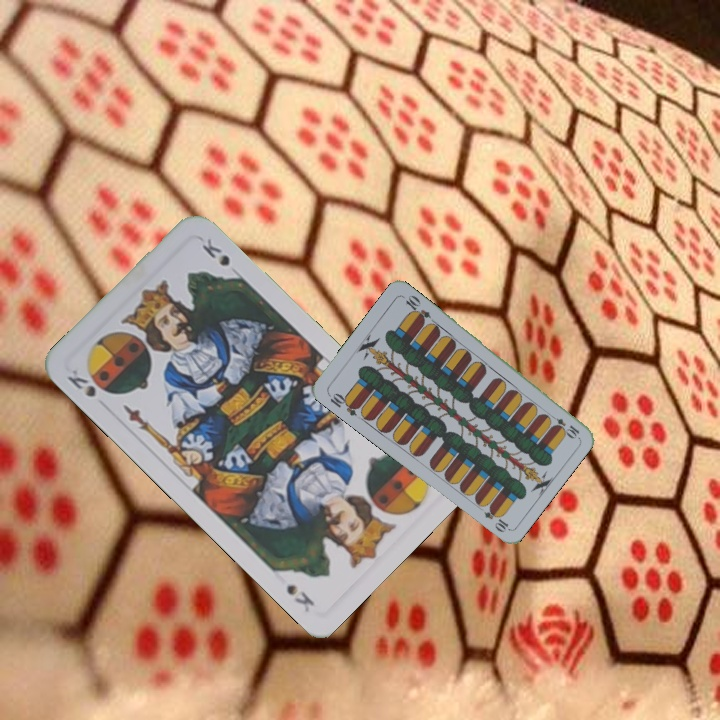E10: (545, 410, 582, 440), (324, 389, 362, 418)
SK: (63, 365, 99, 400)
